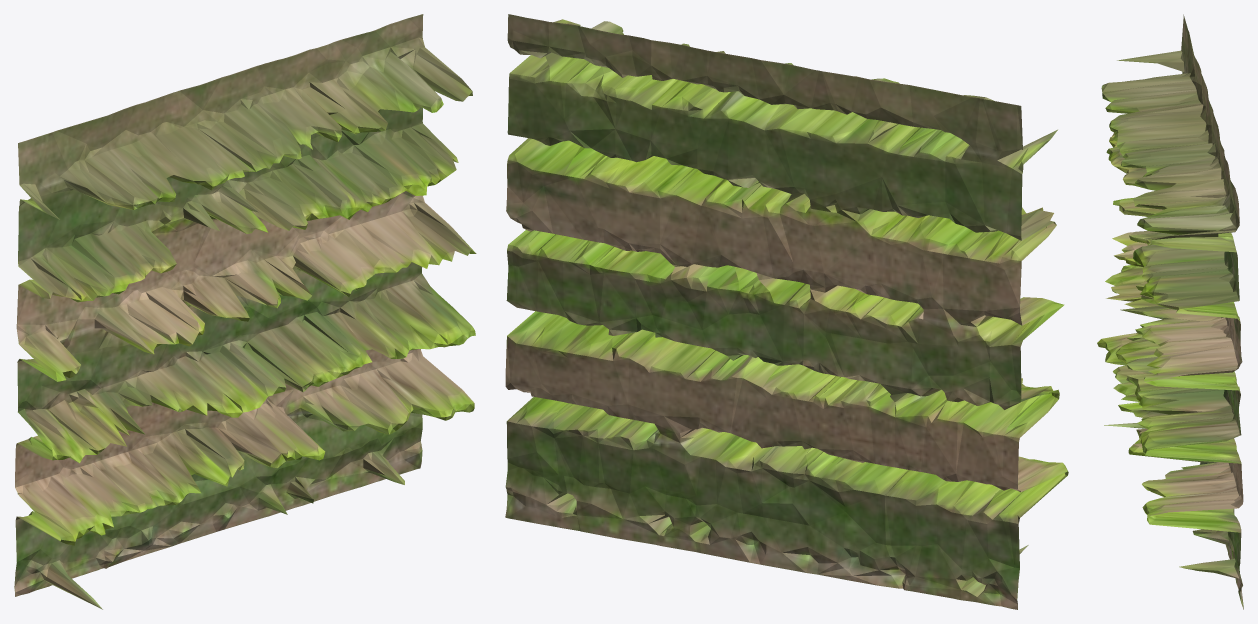
Rendered from map_160_50.obj.
The picture shows the model from 3 angles, left to right: view 1: azimuth 30°, elevation 25°; view 2: azimuth 150°, elevation 25°; view 3: azimuth 270°, elevation 25°; orthographic projection. The views are drawn at different scales.
Visible parts, largest first — view 1: grp1; view 2: grp1; view 3: grp1.
Part boxes in pixels (box(x1,y1,x2,y2)): grp1: box(14, 14, 476, 609); grp1: box(505, 14, 1068, 609); grp1: box(1097, 14, 1243, 609).
Bounding box in the file's own units: 10 × 10 × 3.28.
Materials: 1 (1 with a texture image).
